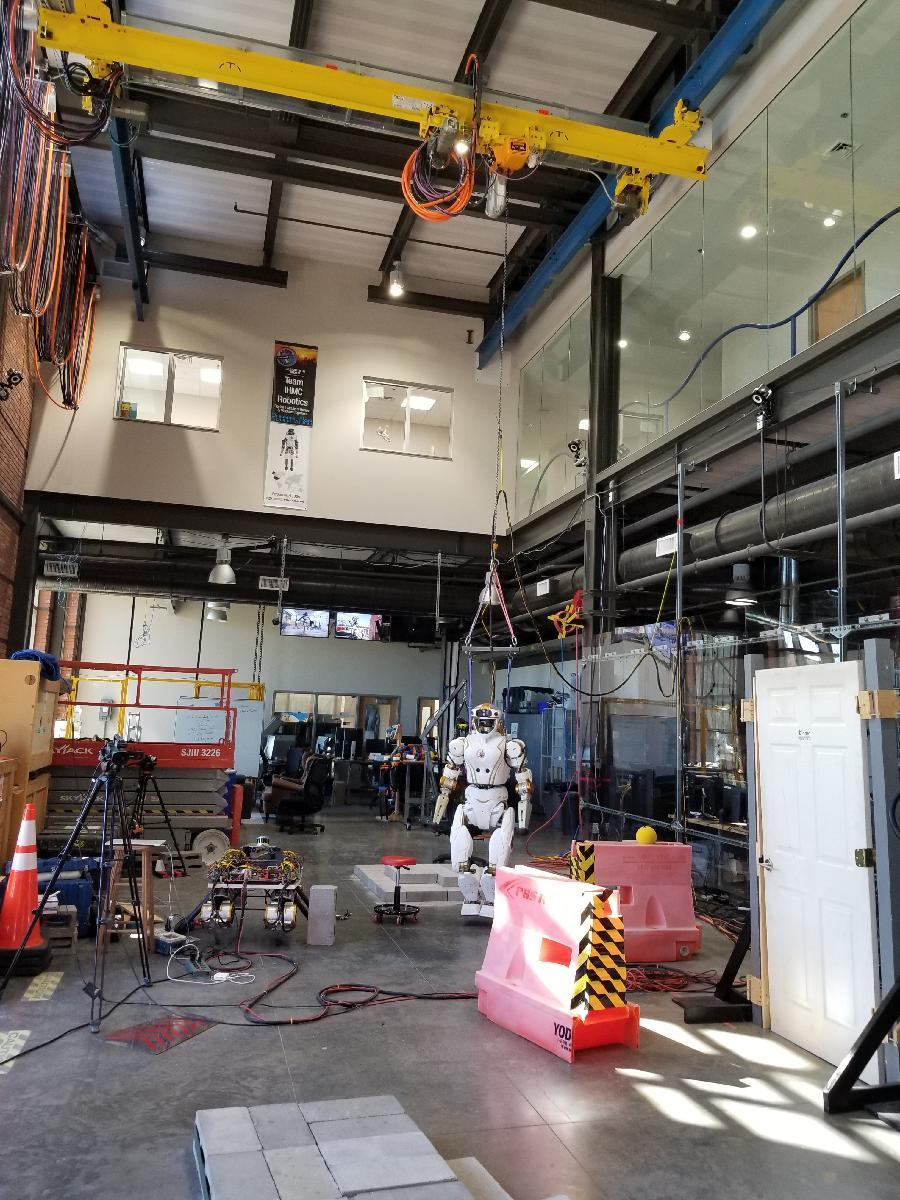door: (754, 668, 892, 1071)
